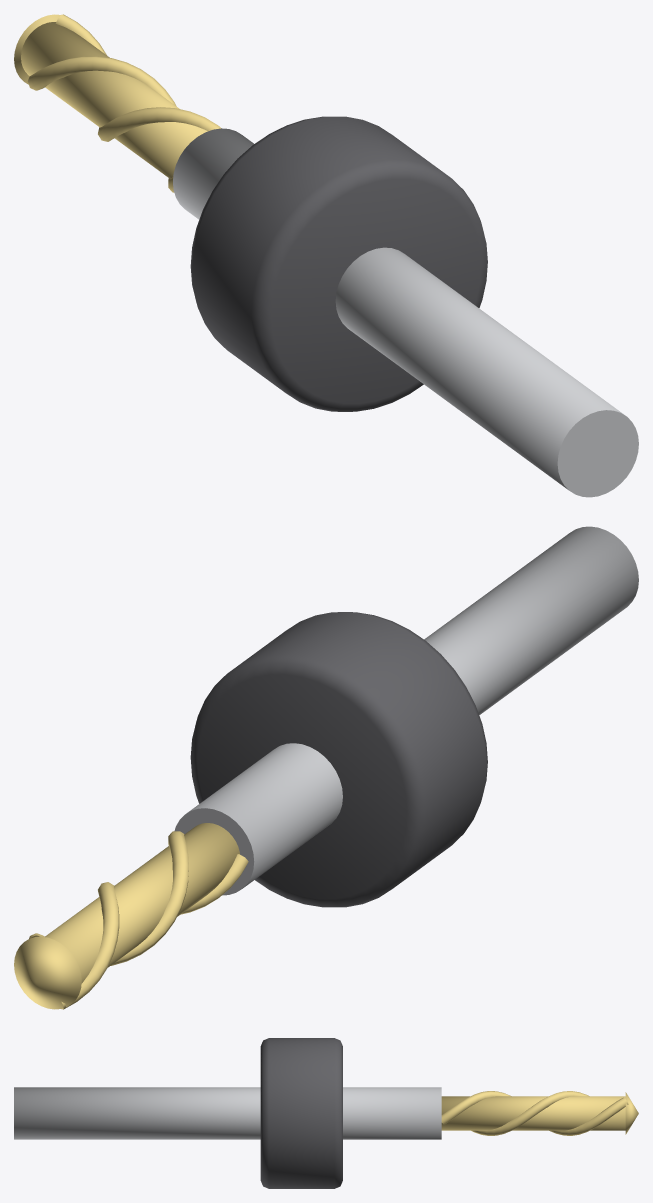
The model's file is drill18_2p7.glb.
3 views of the same model, one above another, from view 1: azimuth 30°, elevation 25°; view 2: azimuth 150°, elevation 25°; view 3: azimuth 270°, elevation 25° (orthographic). The views are drawn at different scales.
Parts seen in each view (by area): view 1: Cylinder.002, Cylinder.001, Cylinder, flute, flute.001, Cone; view 2: Cylinder.002, Cylinder.001, Cylinder, Cone, flute.001, flute; view 3: Cylinder.001, Cylinder.002, Cylinder, flute, flute.001, Cone.
Part boxes in pixels (x1=…): Cylinder.002: x1=190, y1=116, x2=487, y2=411; Cylinder.001: x1=173, y1=128, x2=638, y2=497; Cylinder: x1=21, y1=22, x2=207, y2=178; flute: x1=55, y1=14, x2=221, y2=141; flute.001: x1=27, y1=56, x2=176, y2=192; Cone: x1=14, y1=14, x2=60, y2=84; Cylinder.002: x1=190, y1=612, x2=487, y2=907; Cylinder.001: x1=174, y1=526, x2=638, y2=895; Cylinder: x1=45, y1=823, x2=239, y2=983; Cone: x1=14, y1=936, x2=81, y2=1009; flute.001: x1=61, y1=854, x2=248, y2=1009; flute: x1=28, y1=831, x2=188, y2=965; Cylinder.001: x1=14, y1=1087, x2=441, y2=1139; Cylinder.002: x1=260, y1=1038, x2=342, y2=1188; Cylinder: x1=441, y1=1096, x2=625, y2=1130; flute: x1=441, y1=1091, x2=628, y2=1135; flute.001: x1=471, y1=1091, x2=589, y2=1135; Cone: x1=625, y1=1092, x2=638, y2=1134.
Bounding box in the file's own units: 0.00917 × 0.00917 × 0.038.
